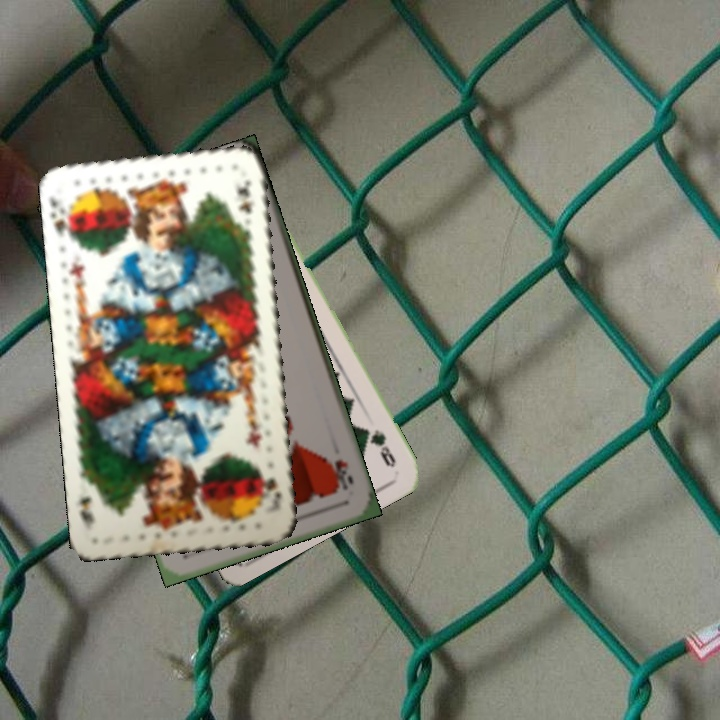G9: (359, 422, 399, 470)
HO: (330, 455, 356, 493)
SK: (47, 193, 78, 244), (257, 464, 284, 509)
